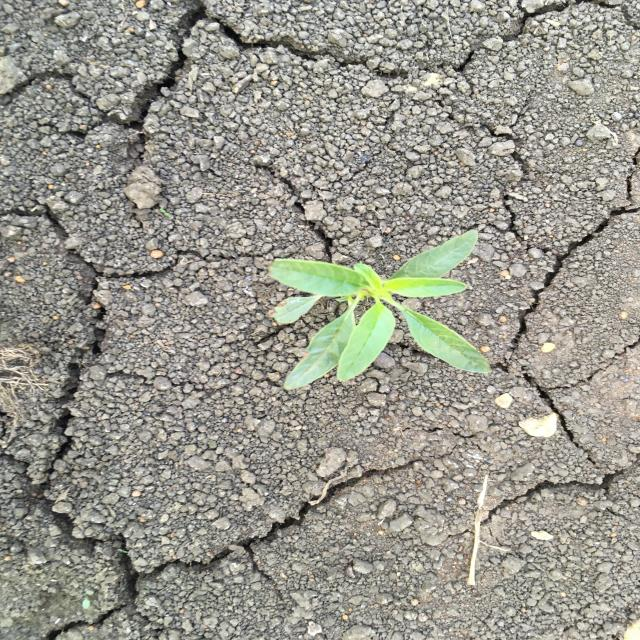Waterhemp: (263, 227, 497, 393)
